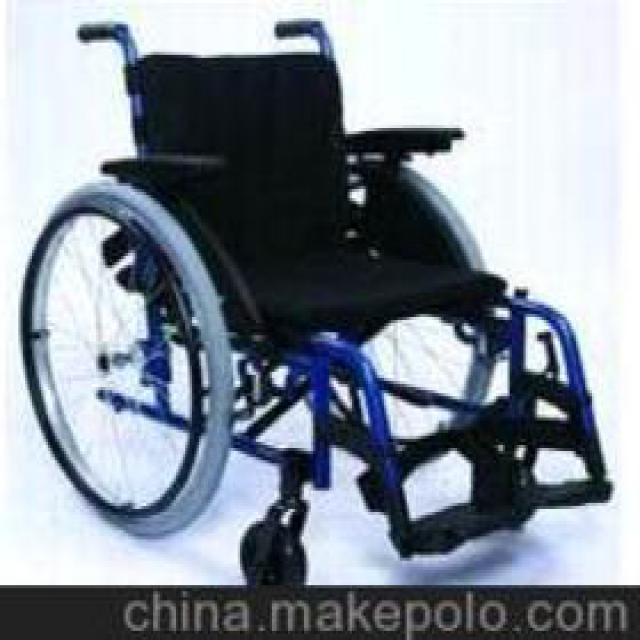wheelchair: (11, 9, 624, 591)
